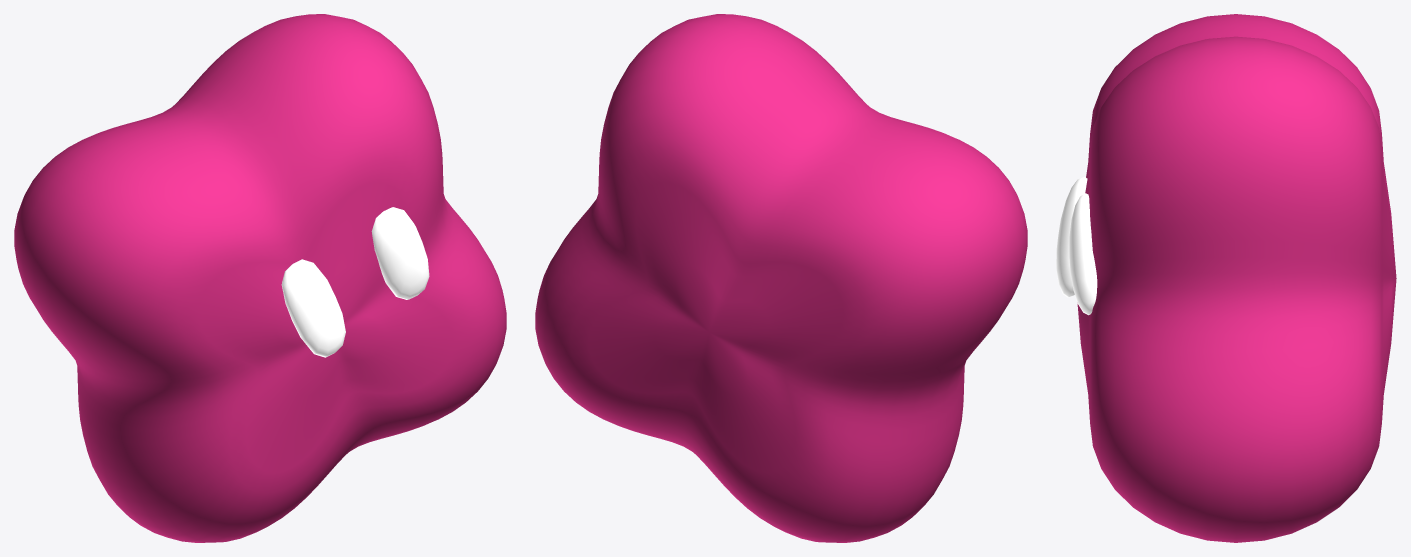
File: analytics-analyst.glb
3 views of the same model, side by side, from view 1: azimuth 30°, elevation 25°; view 2: azimuth 150°, elevation 25°; view 3: azimuth 270°, elevation 25° (orthographic). The views are drawn at different scales.
Parts seen in each view (by area): view 1: body, eye_L, eye_R; view 2: body; view 3: body, eye_R, eye_L.
Part boxes in pixels (x1,y1,x2,y2): body: (14,14,506,542); eye_L: (281,259,345,357); eye_R: (371,207,429,299); body: (535,14,1027,542); body: (1077,14,1396,542); eye_R: (1069,193,1097,315); eye_L: (1056,177,1087,297).
Size of the model in its own units: 0.8 by 0.7807 by 0.4661.
